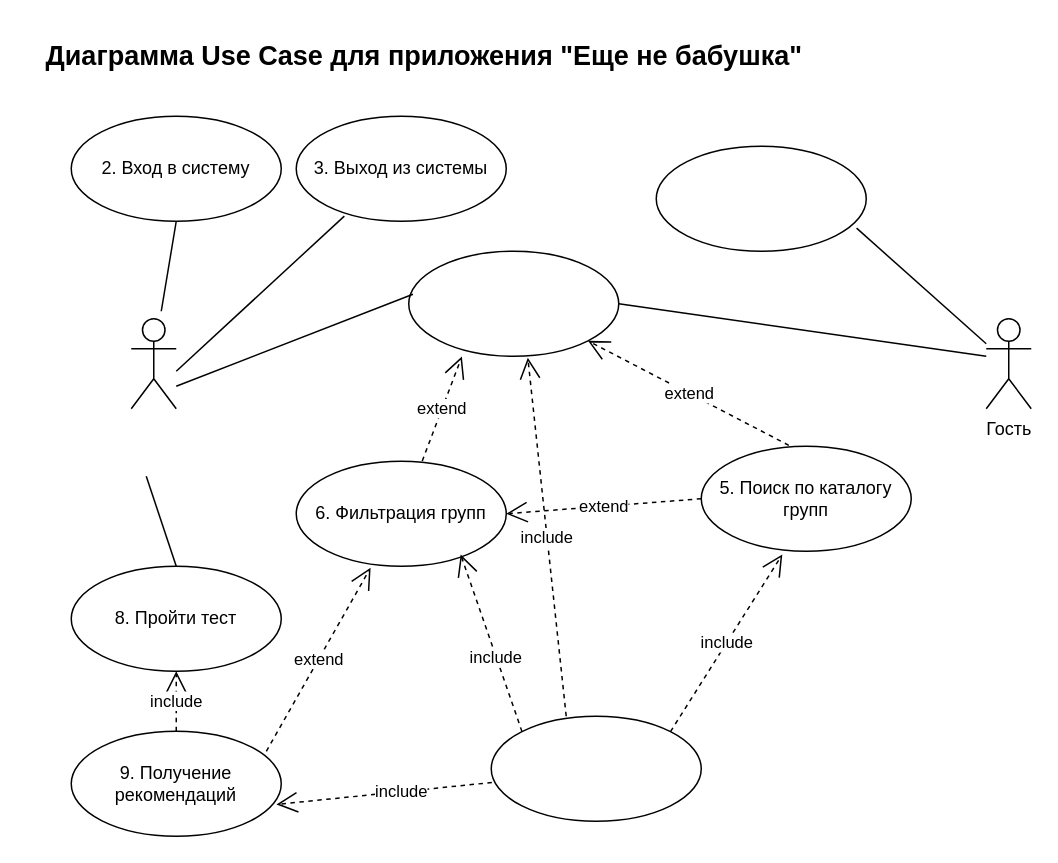
Some shapes in this 1058 by 863 pixel diagram are drawn without their labels. Here are the shapes that lost their labels. From the top down, the box of each, then its label:
(655, 145, 866, 251): 1. Регистрация
(407, 250, 619, 356): 4. Просмотр каталога групп
(130, 317, 176, 409): Авторизированный пользователь
(490, 715, 701, 821): 7. Запись в группу
